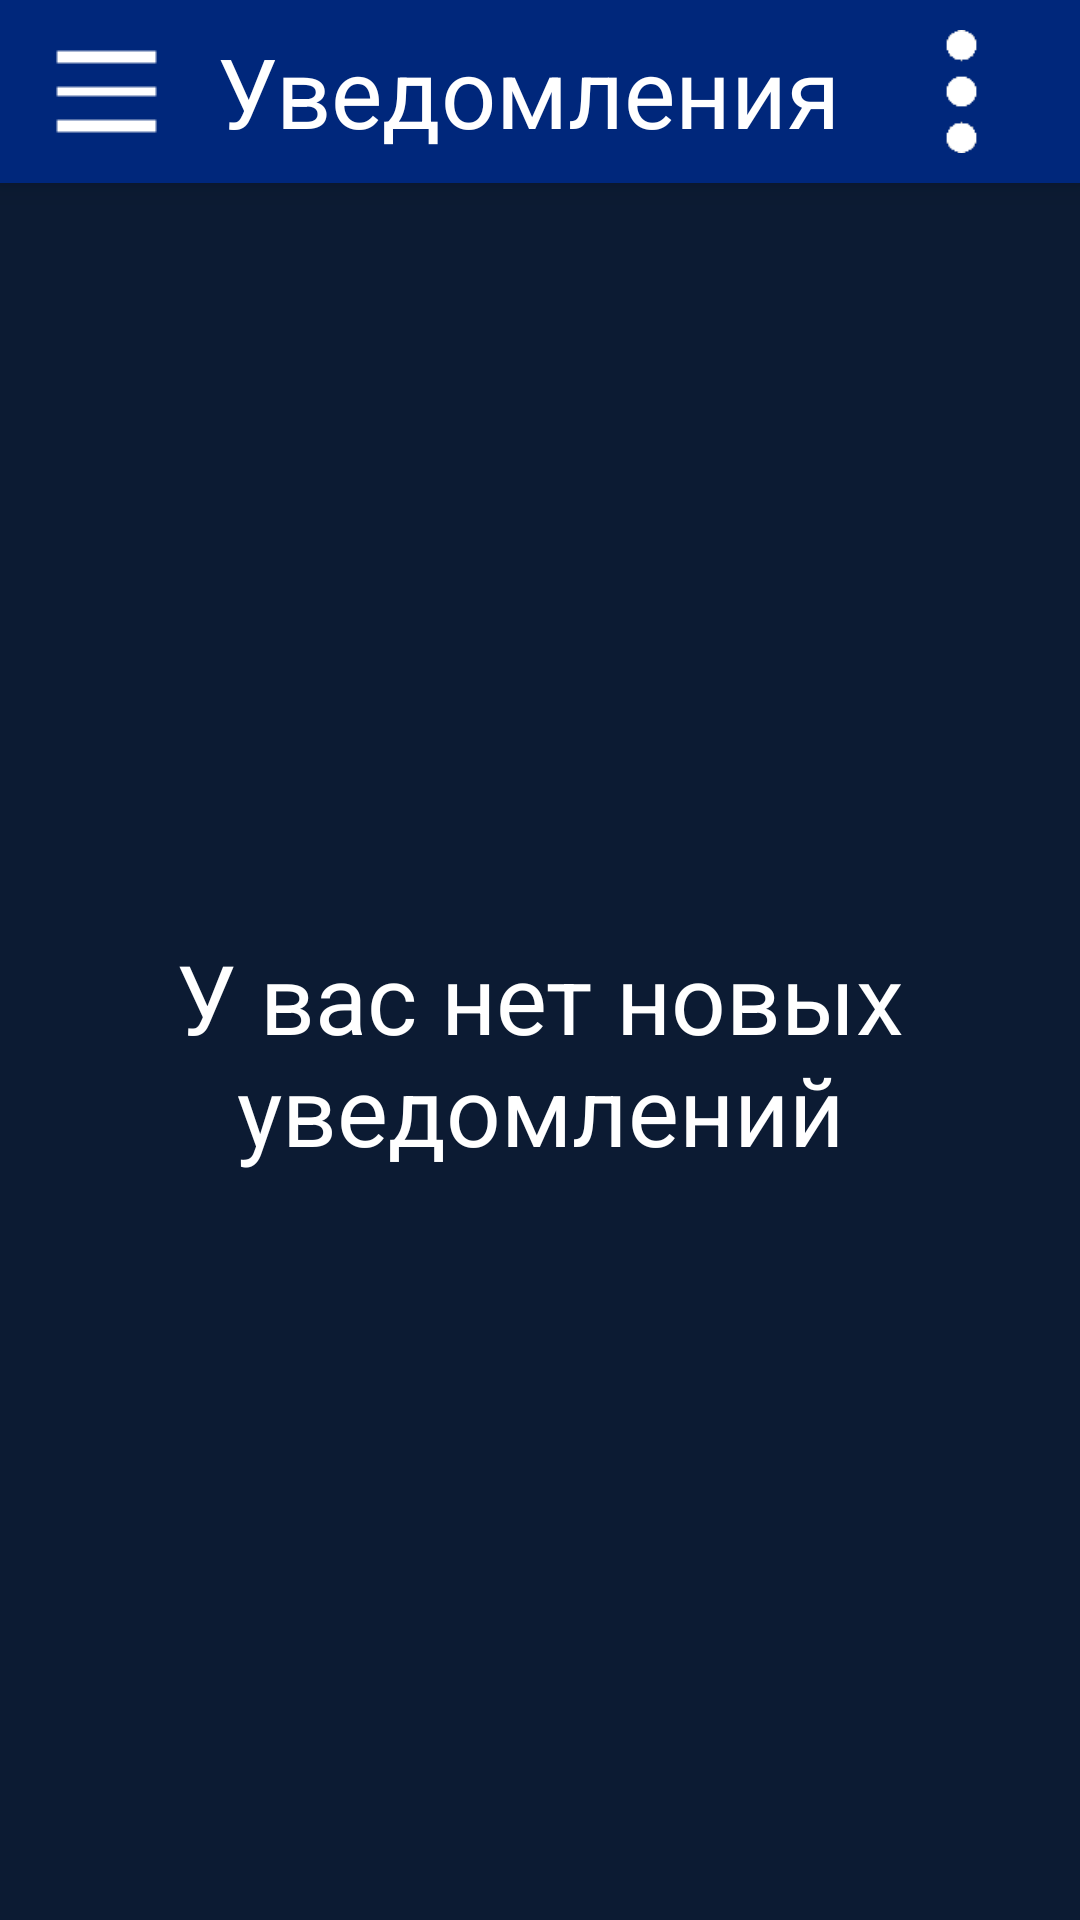

Screen size 1080x1920. Icon name, then its center in pixels as point (x, y):
leftmenuicon: point (106, 91)
